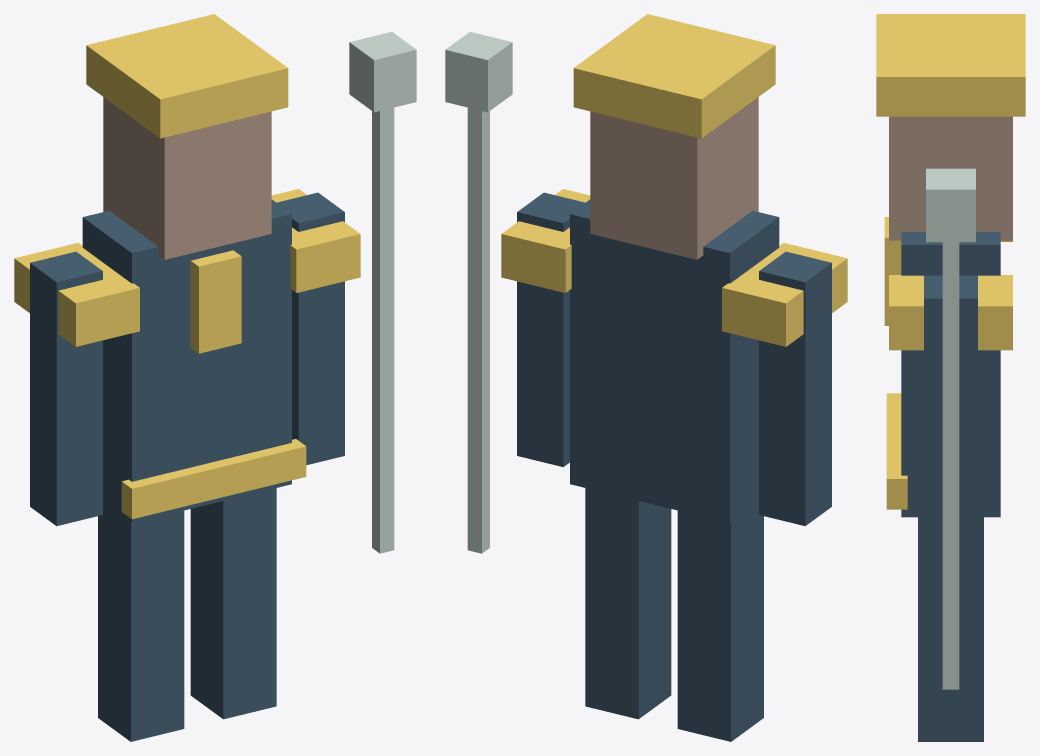
Rendered from 13_quill_mossguard_herald_of_barricaded.glb.
The picture shows the model from 3 angles, left to right: view 1: azimuth 30°, elevation 25°; view 2: azimuth 150°, elevation 25°; view 3: azimuth 270°, elevation 25°; orthographic projection.
Visible parts, largest first — view 1: Quill Mossguard, Herald of Barricaded; view 2: Quill Mossguard, Herald of Barricaded; view 3: Quill Mossguard, Herald of Barricaded.
Part boxes in pixels (<box>): Quill Mossguard, Herald of Barricaded: <box>14,14,416,741</box>; Quill Mossguard, Herald of Barricaded: <box>445,14,847,741</box>; Quill Mossguard, Herald of Barricaded: <box>876,14,1025,741</box>.
Size of the model in its own units: 0.9758 by 1.69 by 0.3461.
